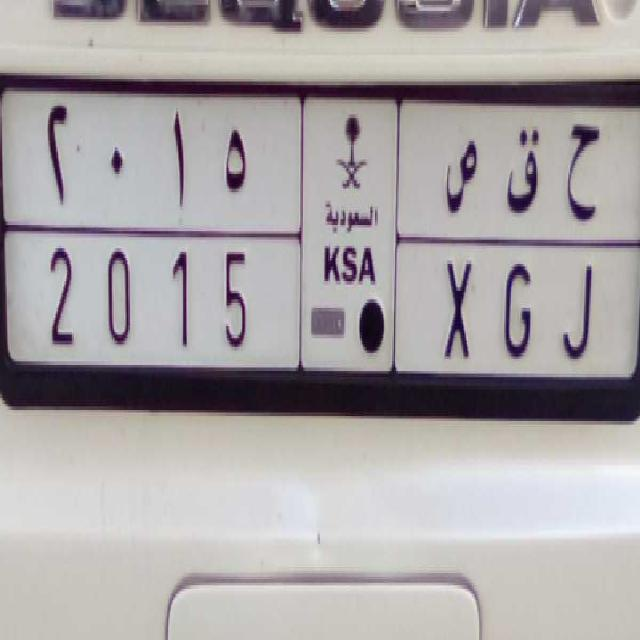license_plate: (16, 225, 615, 391)
